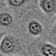cell: (2, 39, 13, 50), (44, 46, 56, 55), (30, 22, 40, 32), (42, 1, 52, 11), (2, 14, 11, 24)
